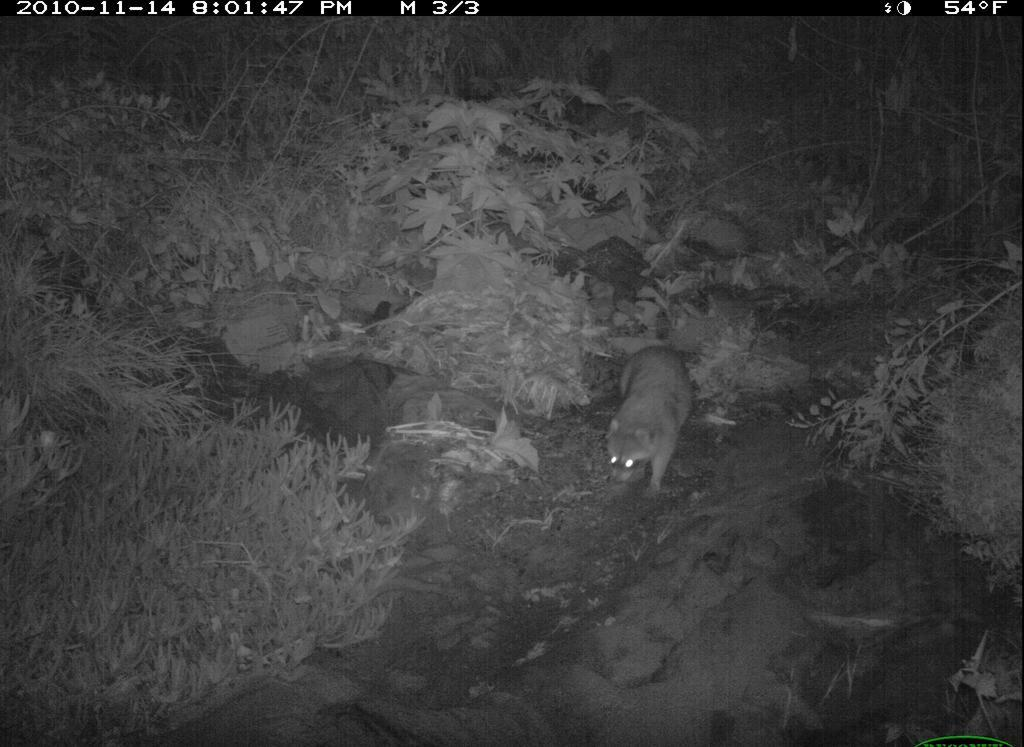raccoon: (597, 338, 711, 504)
